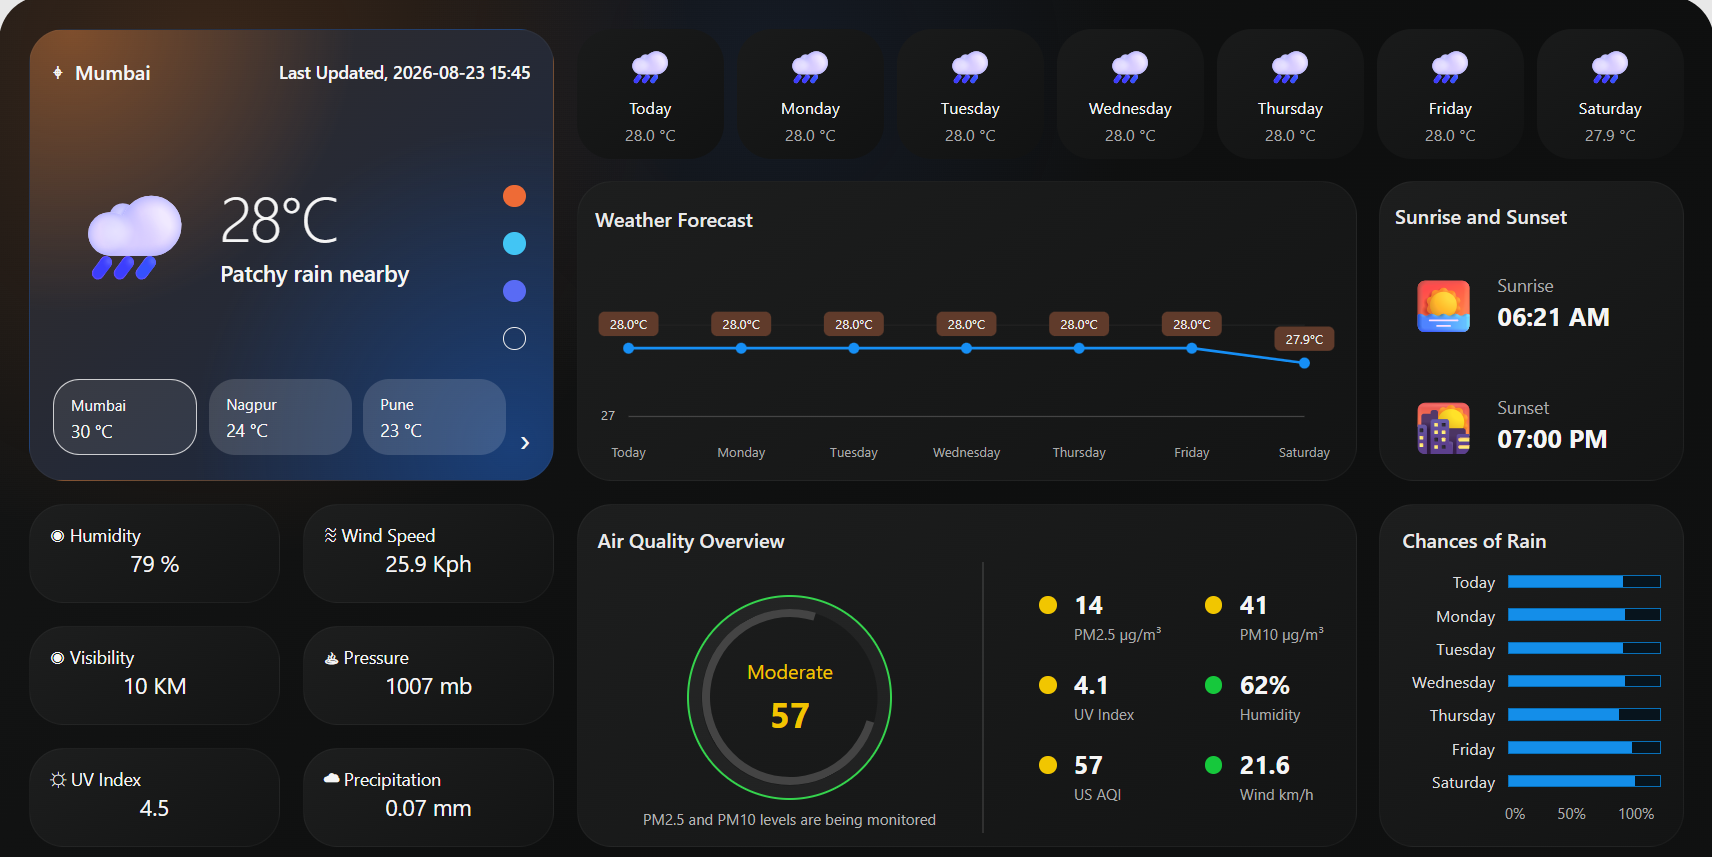

What the dashboard file says about the page in this screenshot:
{"tool":"powerbi","page":{"name":"Page 1","canvas":[1280,720],"ordinal":0},"visuals":[{"type":"donutChart","fields":{"Y":["Sum(current.current.air_quality.pm10)","current.leftvalue"]},"box":[445.2,413.3,240.5,236.7],"z":0},{"type":"shape","box":[462.2,426.5,208.5,204.8],"z":1000},{"type":"advancedSlicerVisual","fields":{"Values":["location.location.name"]},"box":[25.4,276.8,380.2,84.3],"z":2000},{"type":"shape","box":[36.6,157.5,149.5,66.8],"z":3000},{"type":"shape","box":[36.6,224.3,162.2,38.2],"z":4000},{"type":"shape","box":[198.4,45.4,200.3,39.7],"z":5000},{"type":"shape","box":[64.3,45.4,111.5,39.7],"z":6000},{"type":"image","box":[35.9,51,28.3,34],"z":7000},{"type":"cardVisual","fields":{"Data":["Min(current.current.condition.icon)"]},"box":[36.6,98.6,55.7,58.9],"z":8000},{"type":"image","box":[33.4,386.5,30.2,31.8],"z":9000},{"type":"shape","box":[63.6,386.5,122.5,31.8],"z":10000},{"type":"image","box":[227.5,380.2,54.1,42.9],"z":11000},{"type":"image","box":[31.8,485.1,31.8,46.1],"z":12000},{"type":"image","box":[227.5,493.1,47.7,30.2],"z":13000},{"type":"image","box":[232.2,601.3,42.9,44.5],"z":14000},{"type":"image","box":[25.4,601.3,49.3,44.5],"z":15000},{"type":"shape","box":[281.5,386.5,98.6,31.8],"z":16000},{"type":"shape","box":[74.8,491.5,122.5,31.8],"z":17000},{"type":"shape","box":[275.2,485.1,122.5,31.8],"z":18000},{"type":"shape","box":[281.5,601.3,122.5,31.8],"z":19000},{"type":"shape","box":[76.3,607.6,122.5,31.8],"z":20000},{"type":"cardVisual","fields":{"Data":["Sum(current.current.humidity)"]},"box":[81.1,418.3,74.8,44.5],"z":21000},{"type":"cardVisual","fields":{"Data":["_measures.wind_speeds"]},"box":[265.6,408.8,155.9,54.1],"z":22000},{"type":"cardVisual","fields":{"Data":["Sum(current.current.humidity)"]},"box":[81.1,531.3,74.8,44.5],"z":23000},{"type":"cardVisual","fields":{"Data":["Sum(current.current.pressure_in)"]},"box":[281.5,516.9,119.3,44.5],"z":24000},{"type":"cardVisual","fields":{"Data":["Sum(current.current.pressure_in)"]},"box":[275.2,633.1,119.3,44.5],"z":25000},{"type":"cardVisual","fields":{"Data":["Sum(current.current.uv)"]},"box":[81.1,633.1,74.8,44.5],"z":26000},{"type":"advancedSlicerVisual","fields":{"Values":["forecast-day.day_name"]},"box":[439.6,16.9,839.8,103.3],"z":27000},{"type":"lineChart","title":"Chance_of_Rain","fields":{"Y":["Avg(forcast-hours.forecast.forecastday.hour.temp_f)"],"Category":["location.location.name","forcast-hours.forecast.forecastday.hour.chance_of_rain"]},"box":[460.3,148.4,535.4,189.7],"z":28000},{"type":"map","fields":{"Size":["Sum(forcast-hours.forecast.forecastday.hour.cloud)"],"Category":["location.location.name"]},"box":[1035.2,385.1,208.5,293.1],"z":29000},{"type":"cardVisual","fields":{"Data":["Sum(current.current.air_quality.o3)"]},"box":[860.4,396.4,135.3,71.4],"z":30000},{"type":"shape","box":[460.3,390.8,154.1,31.9],"z":31000},{"type":"cardVisual","fields":{"Data":["Sum(current.current.air_quality.no2)"]},"box":[864.2,486.6,135.3,75.1],"z":32000},{"type":"cardVisual","fields":{"Data":["Sum(current.current.air_quality.pm2_5)"]},"box":[860.4,586.1,135.3,77],"z":33000},{"type":"cardVisual","fields":{"Data":["Sum(current.current.air_quality.pm10)"]},"box":[728.9,398.3,135.3,69.5],"z":34000},{"type":"cardVisual","fields":{"Data":["Sum(current.current.air_quality.so2)"]},"box":[725.2,496,135.3,73.3],"z":35000},{"type":"cardVisual","fields":{"Data":["Sum(current.current.air_quality.co)"]},"box":[738.3,601.2,135.3,77],"z":36000},{"type":"shape","box":[745.8,418.9,15,15],"z":37000},{"type":"shape","box":[745.8,514.8,15,15],"z":38000},{"type":"shape","box":[886.7,420.8,15,15],"z":39000},{"type":"shape","box":[886.7,509.1,15,15],"z":40000},{"type":"shape","box":[879.2,616.2,15,15],"z":41000},{"type":"shape","box":[753.4,618.1,15,15],"z":42000},{"type":"shape","box":[625.6,411.4,199.1,242.4],"z":43000},{"type":"cardVisual","fields":{"Data":["Sum(current.current.air_quality.pm10)"]},"box":[516.6,494.1,109,75.1],"z":44000},{"type":"cardVisual","fields":{"Data":["current.wind_speed","Min(current.location.name)","Min(current.location.region)"]},"box":[1035.2,131.5,221.7,229.2],"z":45000}]}

Visuals, with their boxes on the page's 1280x720 design canvas (x1, y1, x2, y2). These are canvas units, not pixel positions in the 1712x857 screenshot, which may show the page scaled, cropped or inside an application window:
donutChart - Sum(current.current.air_quality.pm10) x current.leftvalue: locate(445, 413, 686, 650)
shape: locate(462, 426, 671, 631)
advancedSlicerVisual - location.location.name: locate(25, 277, 406, 361)
shape: locate(37, 158, 186, 224)
shape: locate(37, 224, 199, 262)
shape: locate(198, 45, 399, 85)
shape: locate(64, 45, 176, 85)
image: locate(36, 51, 64, 85)
cardVisual - Min(current.current.condition.icon): locate(37, 99, 92, 158)
image: locate(33, 386, 64, 418)
shape: locate(64, 386, 186, 418)
image: locate(228, 380, 282, 423)
image: locate(32, 485, 64, 531)
image: locate(228, 493, 275, 523)
image: locate(232, 601, 275, 646)
image: locate(25, 601, 75, 646)
shape: locate(282, 386, 380, 418)
shape: locate(75, 492, 197, 523)
shape: locate(275, 485, 398, 517)
shape: locate(282, 601, 404, 633)
shape: locate(76, 608, 199, 639)
cardVisual - Sum(current.current.humidity): locate(81, 418, 156, 463)
cardVisual - _measures.wind_speeds: locate(266, 409, 422, 463)
cardVisual - Sum(current.current.humidity): locate(81, 531, 156, 576)
cardVisual - Sum(current.current.pressure_in): locate(282, 517, 401, 561)
cardVisual - Sum(current.current.pressure_in): locate(275, 633, 394, 678)
cardVisual - Sum(current.current.uv): locate(81, 633, 156, 678)
advancedSlicerVisual - forecast-day.day_name: locate(440, 17, 1279, 120)
"Chance_of_Rain" lineChart: locate(460, 148, 996, 338)
map - Sum(forcast-hours.forecast.forecastday.hour.cloud) x location.location.name: locate(1035, 385, 1244, 678)
cardVisual - Sum(current.current.air_quality.o3): locate(860, 396, 996, 468)
shape: locate(460, 391, 614, 423)
cardVisual - Sum(current.current.air_quality.no2): locate(864, 487, 1000, 562)
cardVisual - Sum(current.current.air_quality.pm2_5): locate(860, 586, 996, 663)
cardVisual - Sum(current.current.air_quality.pm10): locate(729, 398, 864, 468)
cardVisual - Sum(current.current.air_quality.so2): locate(725, 496, 860, 569)
cardVisual - Sum(current.current.air_quality.co): locate(738, 601, 874, 678)
shape: locate(746, 419, 761, 434)
shape: locate(746, 515, 761, 530)
shape: locate(887, 421, 902, 436)
shape: locate(887, 509, 902, 524)
shape: locate(879, 616, 894, 631)
shape: locate(753, 618, 768, 633)
shape: locate(626, 411, 825, 654)
cardVisual - Sum(current.current.air_quality.pm10): locate(517, 494, 626, 569)
cardVisual - current.wind_speed x Min(current.location.name): locate(1035, 132, 1257, 361)
